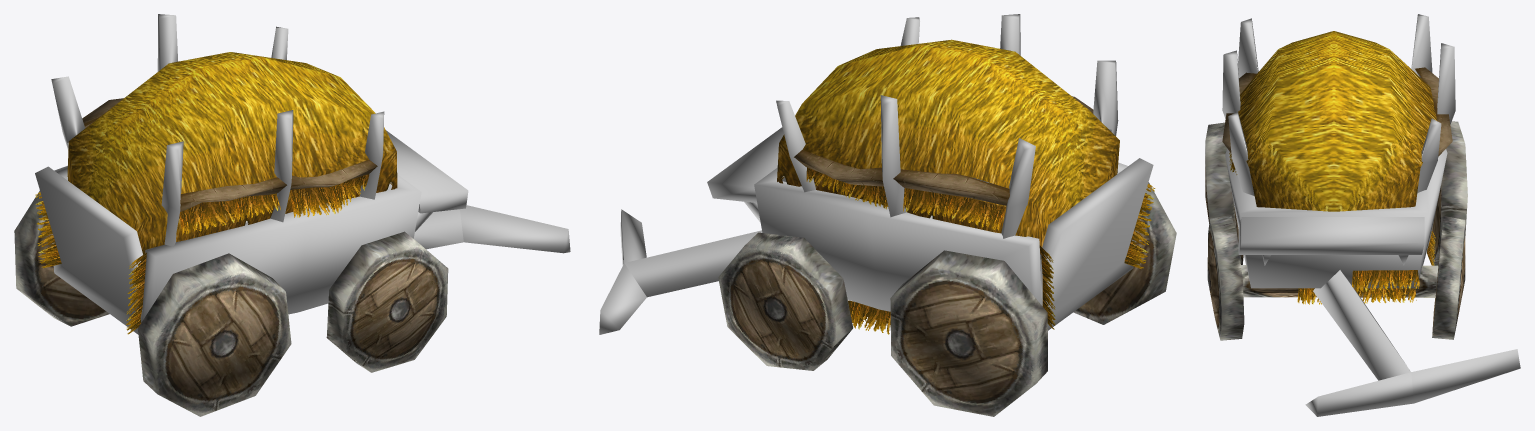
The model's file is westfallhaywagon.obj.
3 views of the same model, side by side, from view 1: azimuth 30°, elevation 25°; view 2: azimuth 150°, elevation 25°; view 3: azimuth 270°, elevation 25° (orthographic). The views are drawn at different scales.
Visible parts, largest first — view 1: Geoset0, Geoset3, Geoset1, Geoset4, Geoset2; view 2: Geoset0, Geoset3, Geoset1, Geoset4, Geoset2; view 3: Geoset0, Geoset1, Geoset3, Geoset4, Geoset2.
Boxes of the visible parts, x1,y1,x2,y2 form: Geoset0: (35, 14, 570, 334); Geoset3: (14, 190, 448, 416); Geoset1: (67, 52, 397, 254); Geoset4: (35, 174, 369, 334); Geoset2: (82, 98, 377, 218); Geoset0: (599, 14, 1153, 334); Geoset3: (718, 182, 1176, 416); Geoset1: (777, 39, 1119, 247); Geoset4: (806, 167, 1155, 334); Geoset2: (794, 96, 1093, 205); Geoset0: (1222, 14, 1520, 416); Geoset1: (1238, 31, 1436, 211); Geoset3: (1205, 121, 1467, 340); Geoset4: (1229, 152, 1435, 304); Geoset2: (1222, 67, 1452, 156).
Bounding box in the file's own units: 7.73 × 4.35 × 5.03.
